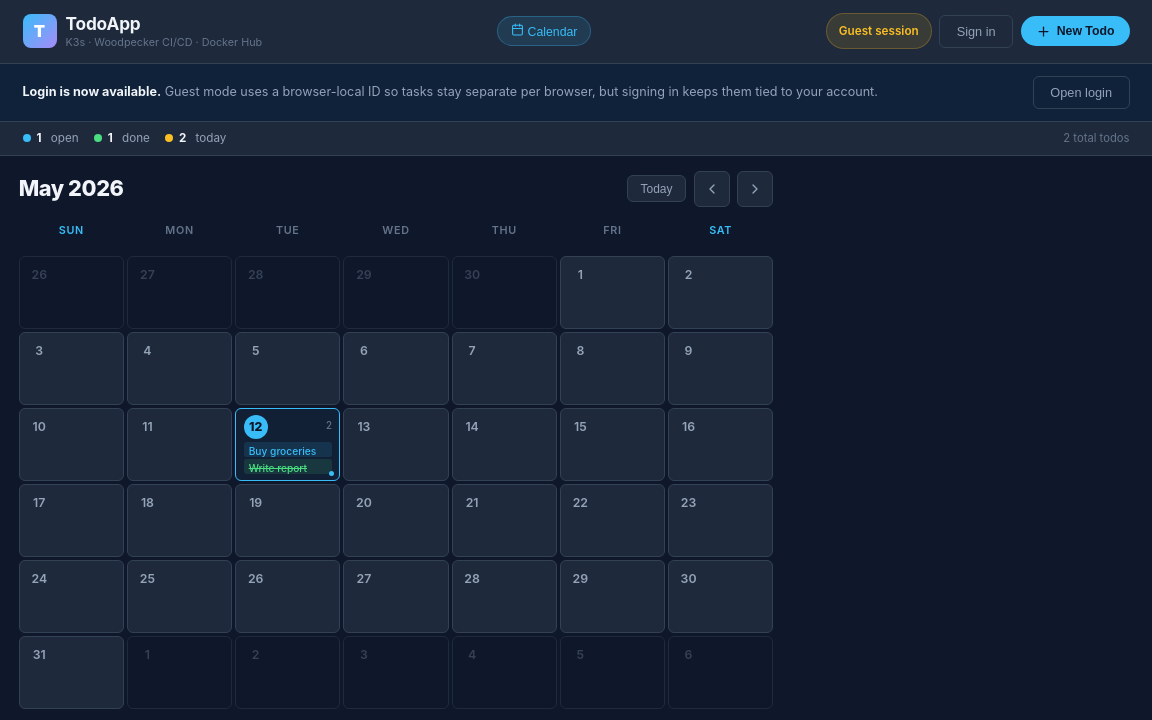
it: HomePage › Task modal › opens the Add Todo modal when clicking New Todo
The width and height of the screenshot is (1152, 720).
Click the button "New Todo" at (1075, 31), box [1021, 16, 1130, 46]
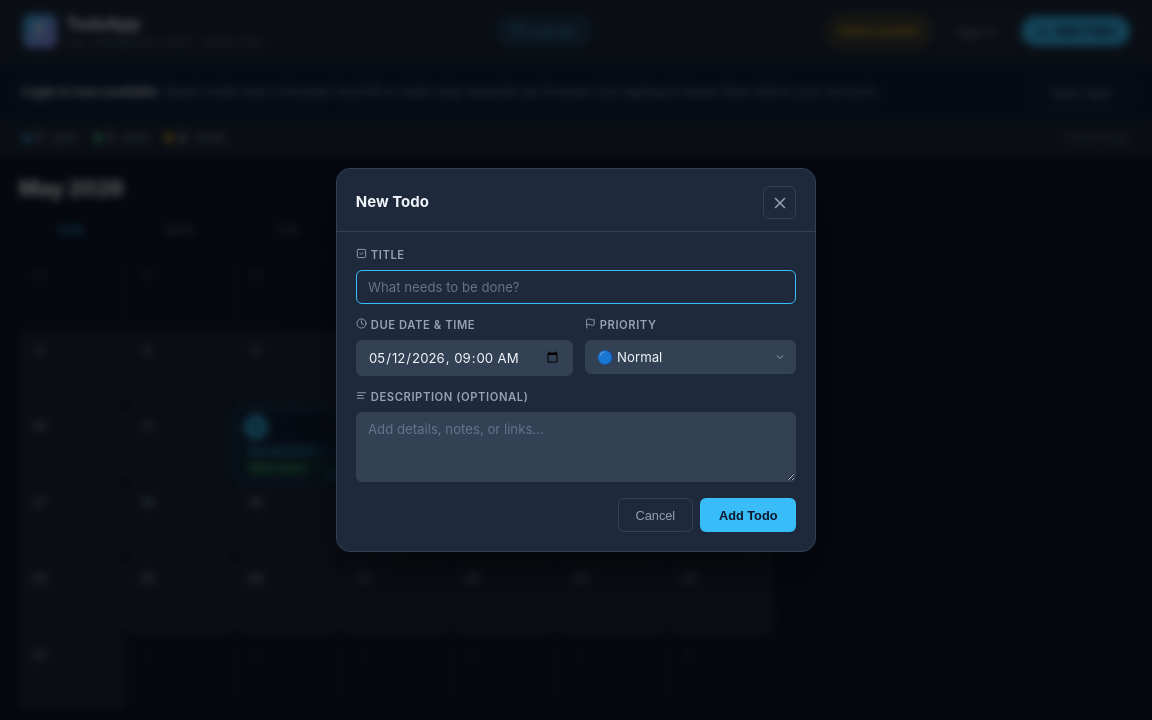
Result: the button "Add Todo" is shown at [700, 498, 796, 532]
